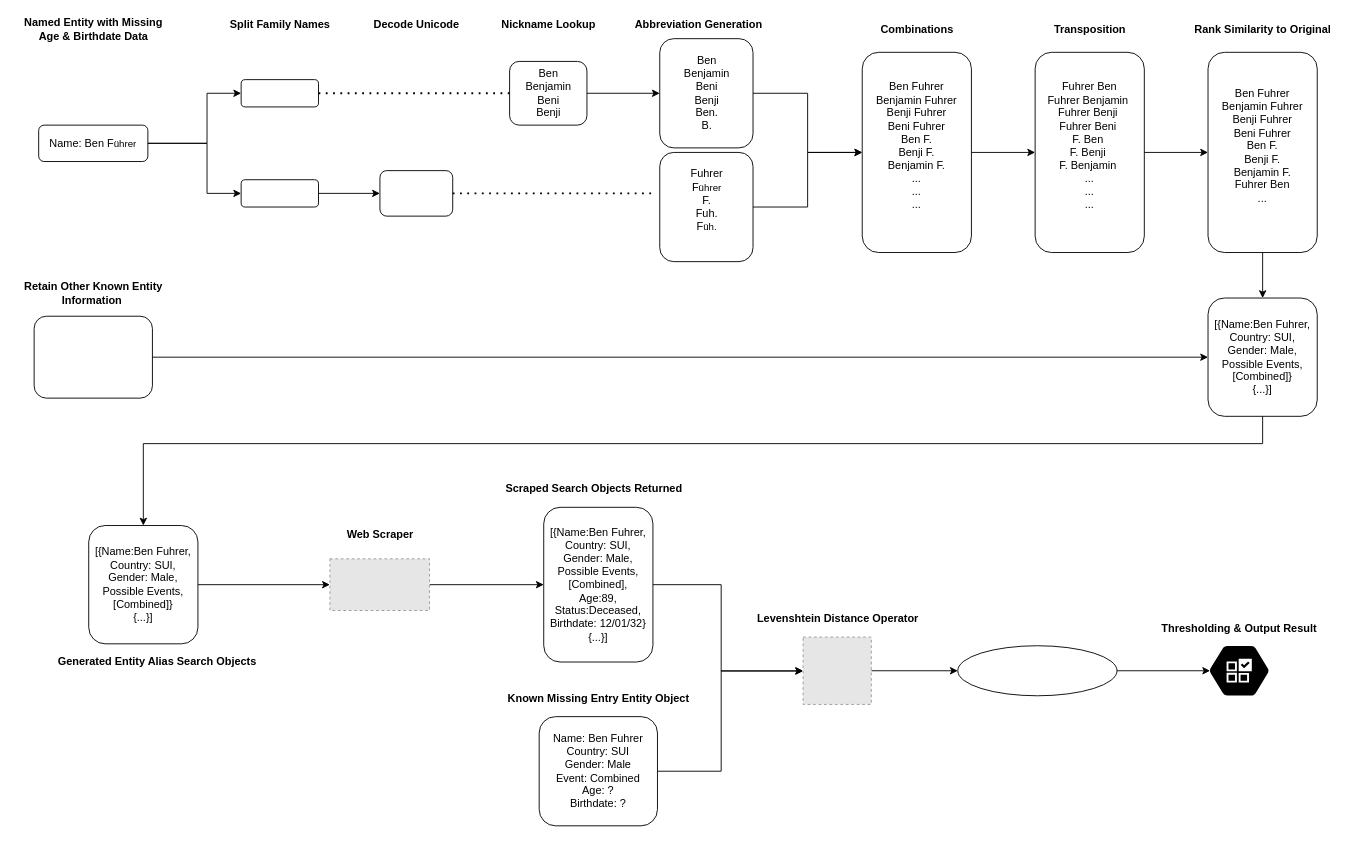
Image size: 1355x842. Some labels were removed from this diagram. Grey dashed boxes stand in for pictures. Here are the shapes that lost their labels. From the top down, the centre of each, then its label:
(x=279, y=93): Ben
(x=279, y=193): F ührer
(x=416, y=193): Fuhrer F ührer
(x=92, y=356): Country: SUI Gender: Male Event: Combined Age: ? Birthdate: ?
(x=1037, y=670): Ranked Edit Distance
